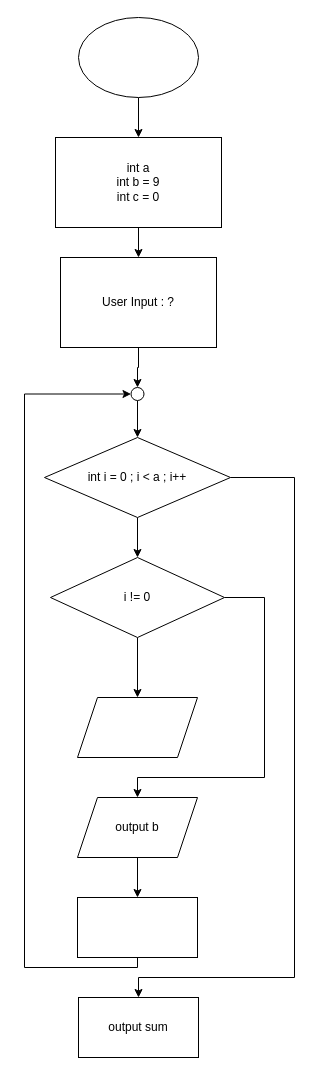
The diagram is 320 pixels wide and 1075 high, and some of its shapes have lost their labels. The shapes that lost their labels are listed below. From the top down, each one's centre as x and y in pixels, then its label:
point 138,57: start
point 137,727: output = "+"
point 137,927: b = b*10+9
